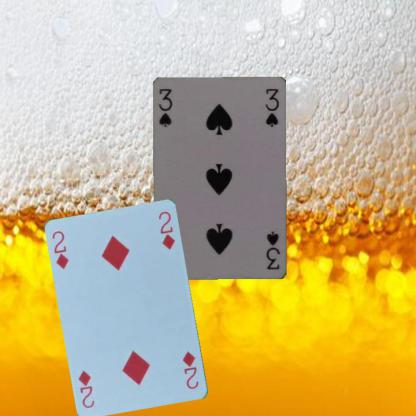2d: (50, 228, 70, 271), (180, 348, 200, 390)
3s: (263, 229, 282, 271), (156, 86, 174, 129)
